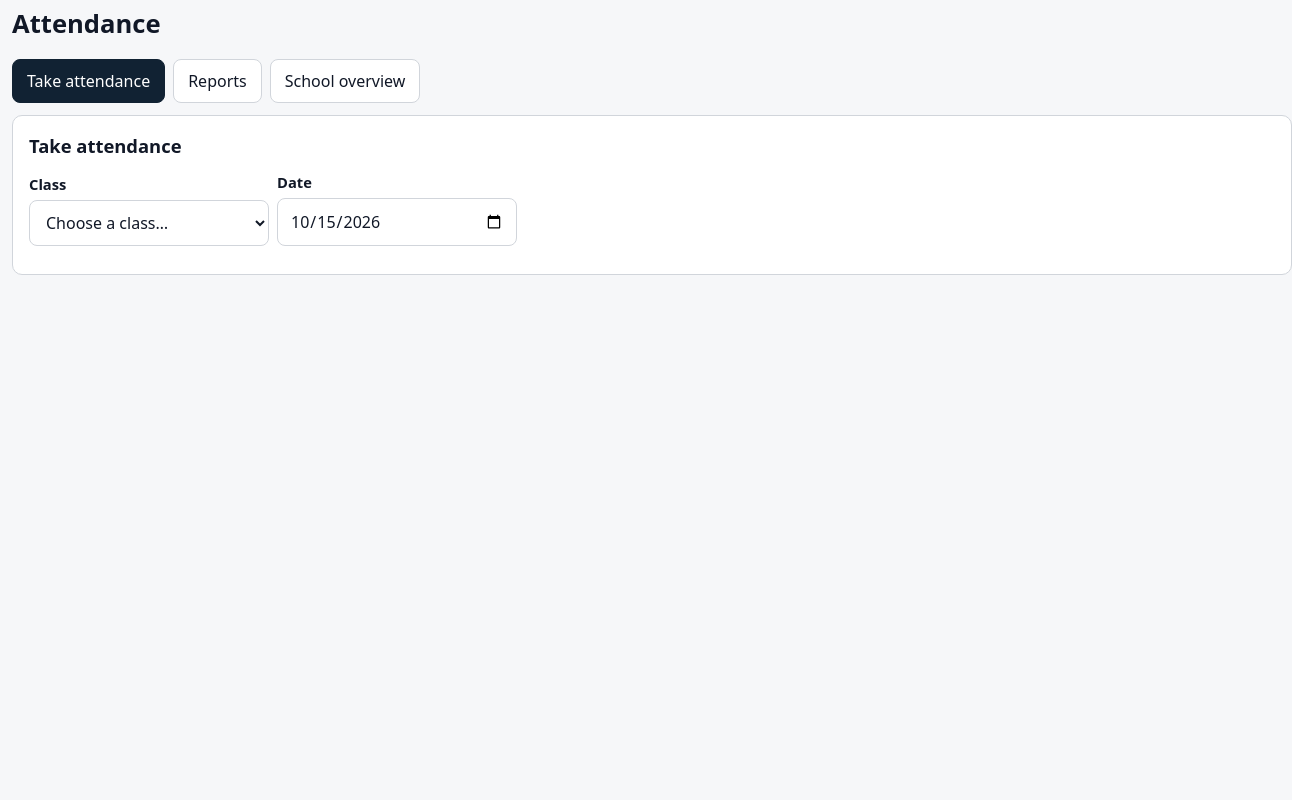
Test case: Attendance reports › monthly report: class %, per-student %, flags low attendance, day-by-day
The width and height of the screenshot is (1292, 800).
Step 1. Click the button "Reports" → (217, 81), box [173,59,262,103]
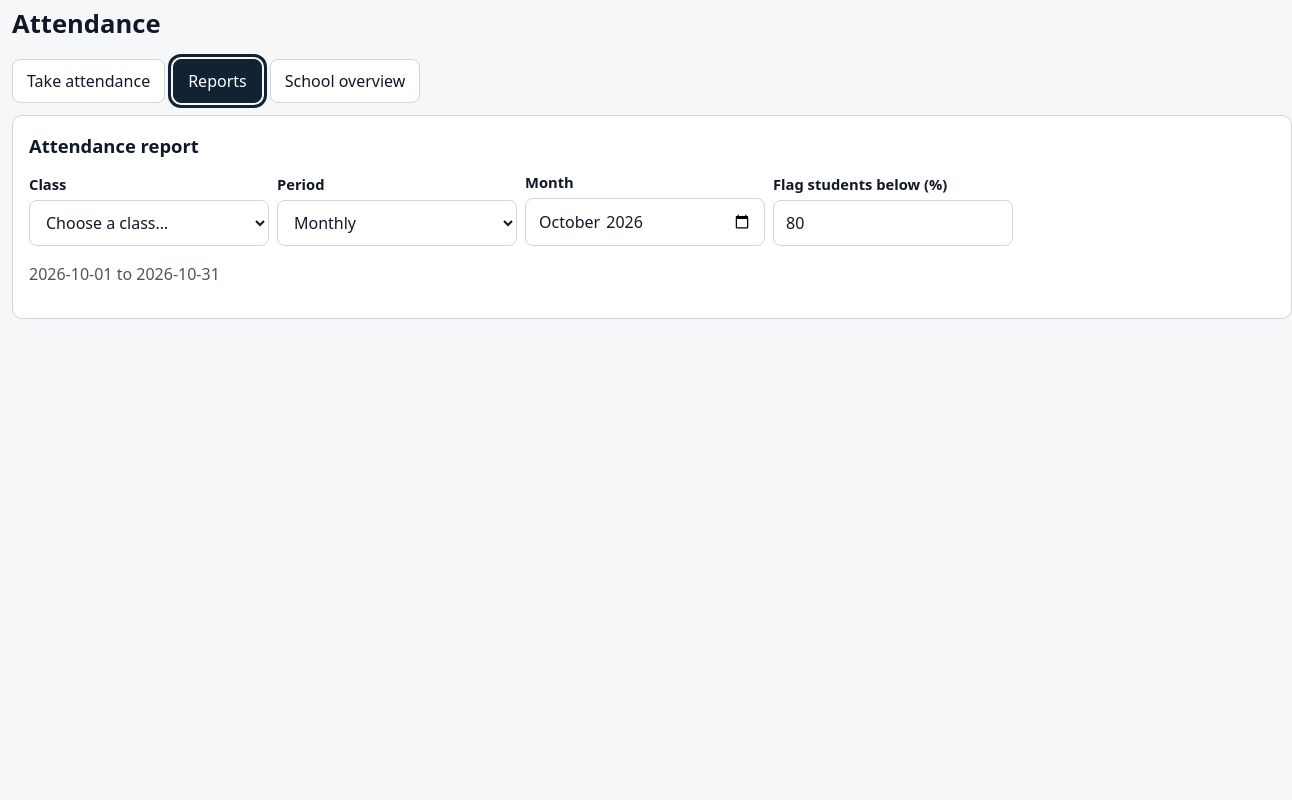
Step 2. Select "JSS 1" in the dropdown labelled "Class" → (149, 222), box [29,200,269,246]
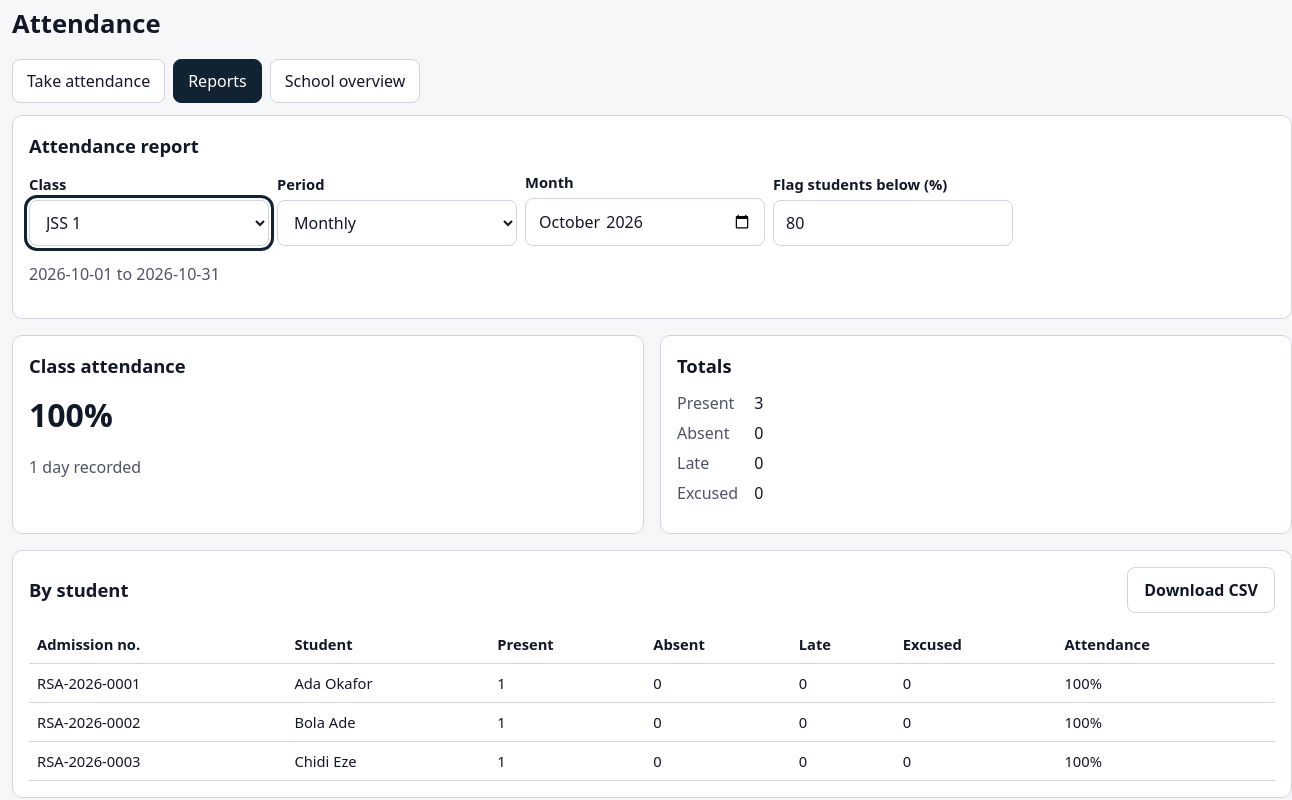
Step 3. Replace the text in the field labelled "Month" with "2026-09" → (645, 222), box [525,198,765,246]
(page scrolled)
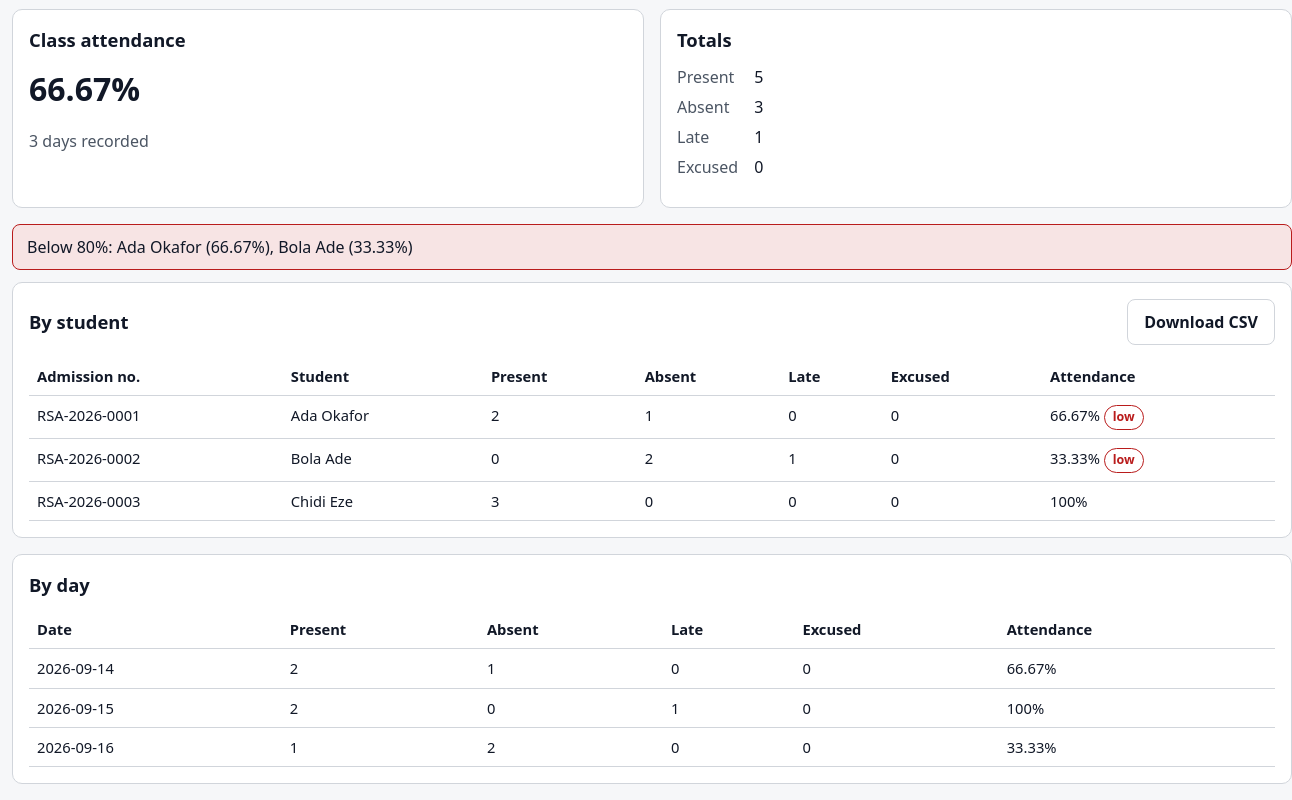
Expected: the text "3 days recorded" is shown, [29,130,149,152]
Expected: the text "66.67%" is shown, [29,67,140,110]
Expected: the text "66.67% low" is shown, [1042,396,1275,438]
